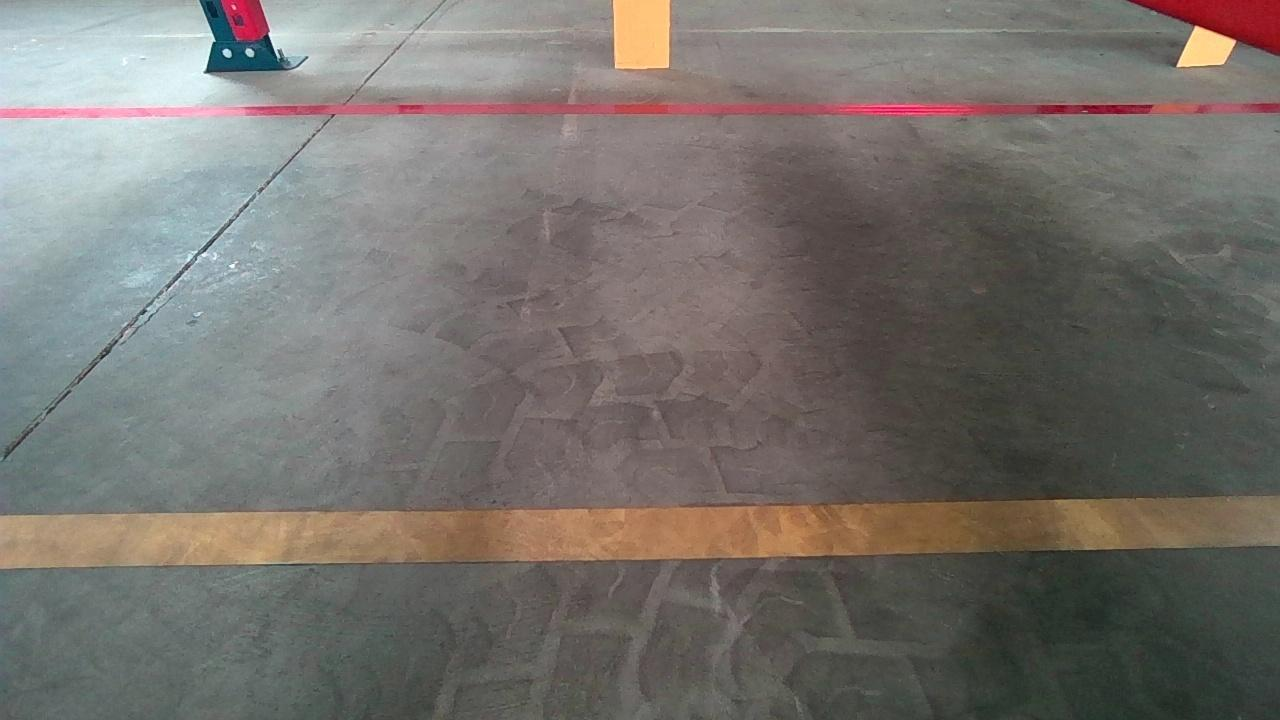orange_strip: (614, 0, 670, 68), (1175, 22, 1242, 67)
red_line: (2, 96, 1275, 128)
yellow_line: (1, 493, 1278, 570)
